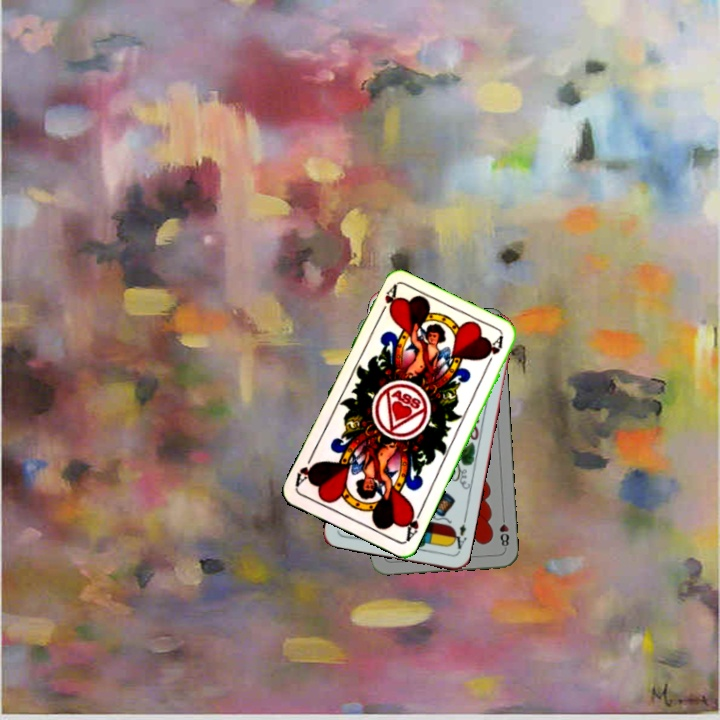EA: (447, 520, 469, 555)
H8: (496, 511, 512, 552)
HA: (400, 504, 425, 543), (375, 282, 400, 320)
